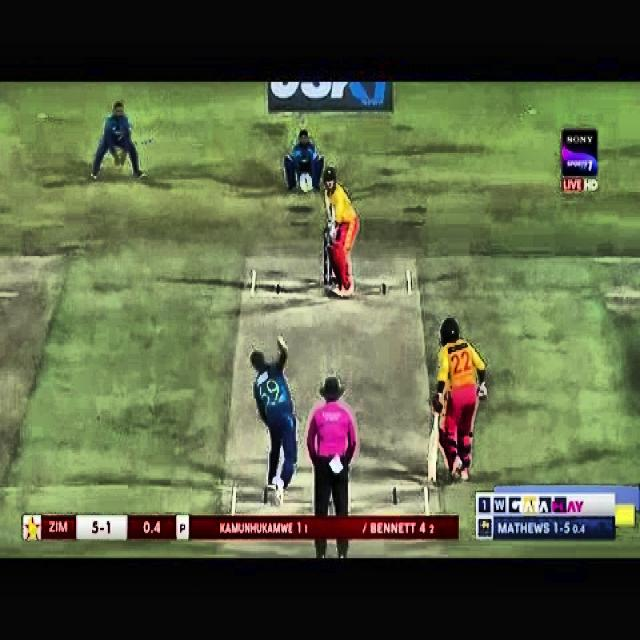Left-stump: (323, 230, 327, 285)
Middle-stump: (329, 263, 333, 285)
